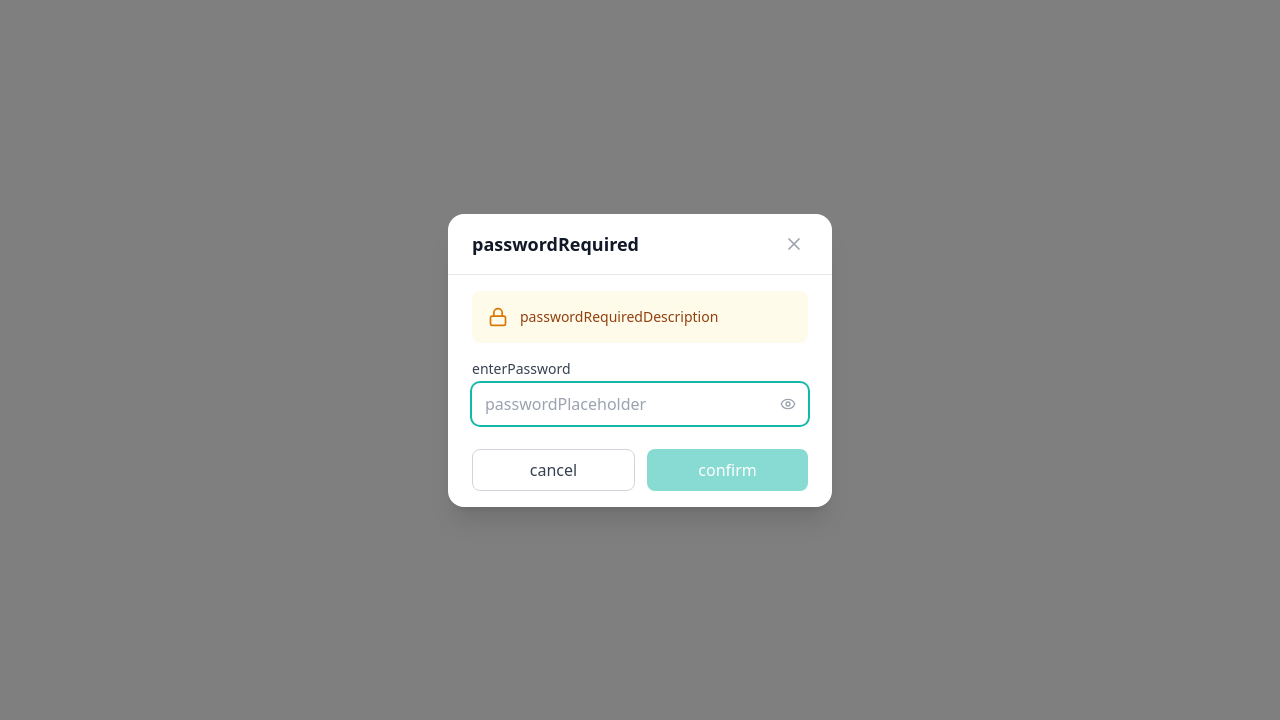
Test: PasswordModal › 入力 › 表示中は切り替えボタンの名前が「隠す」に変わる
Click the button named "showPassword" at coordinates (788, 404), box 776,392 -> 800,416
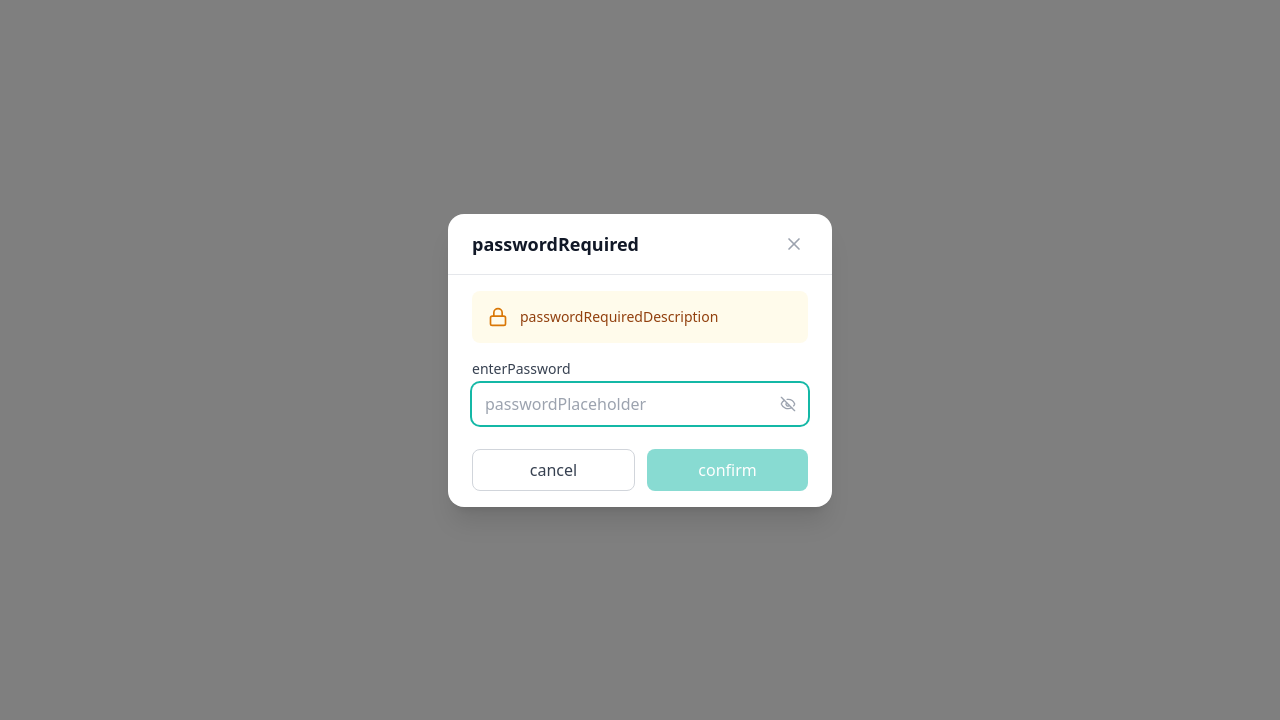
Check: the button named "hidePassword" is shown, box 776,392 -> 800,416
